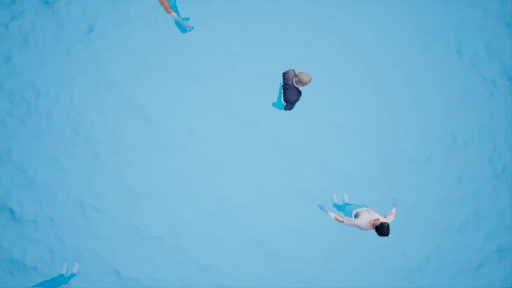person: (315, 192, 407, 239), (271, 66, 316, 111)
